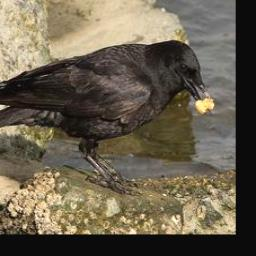Crow: (0, 38, 214, 195)
